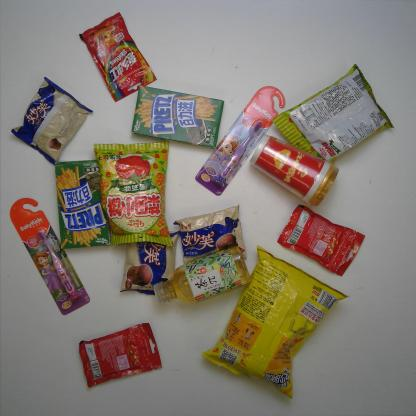Candy: (77, 5, 157, 96), (275, 202, 365, 279), (79, 318, 162, 387)
Dessert: (5, 75, 92, 161), (133, 76, 223, 150), (52, 156, 110, 250), (172, 205, 249, 268), (117, 227, 174, 295)
Drink: (150, 249, 250, 304)
Instant Drink: (250, 132, 340, 209)
Personal Hygiene: (9, 191, 94, 318), (195, 85, 284, 196)
Puffed Food: (200, 245, 336, 400), (272, 60, 394, 164), (88, 138, 176, 248)
